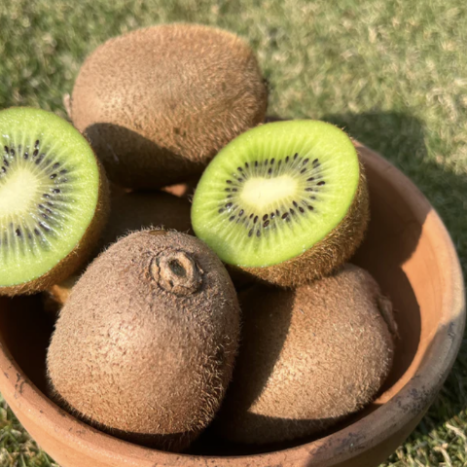kiwi: (38, 192, 253, 458), (50, 19, 273, 196)
